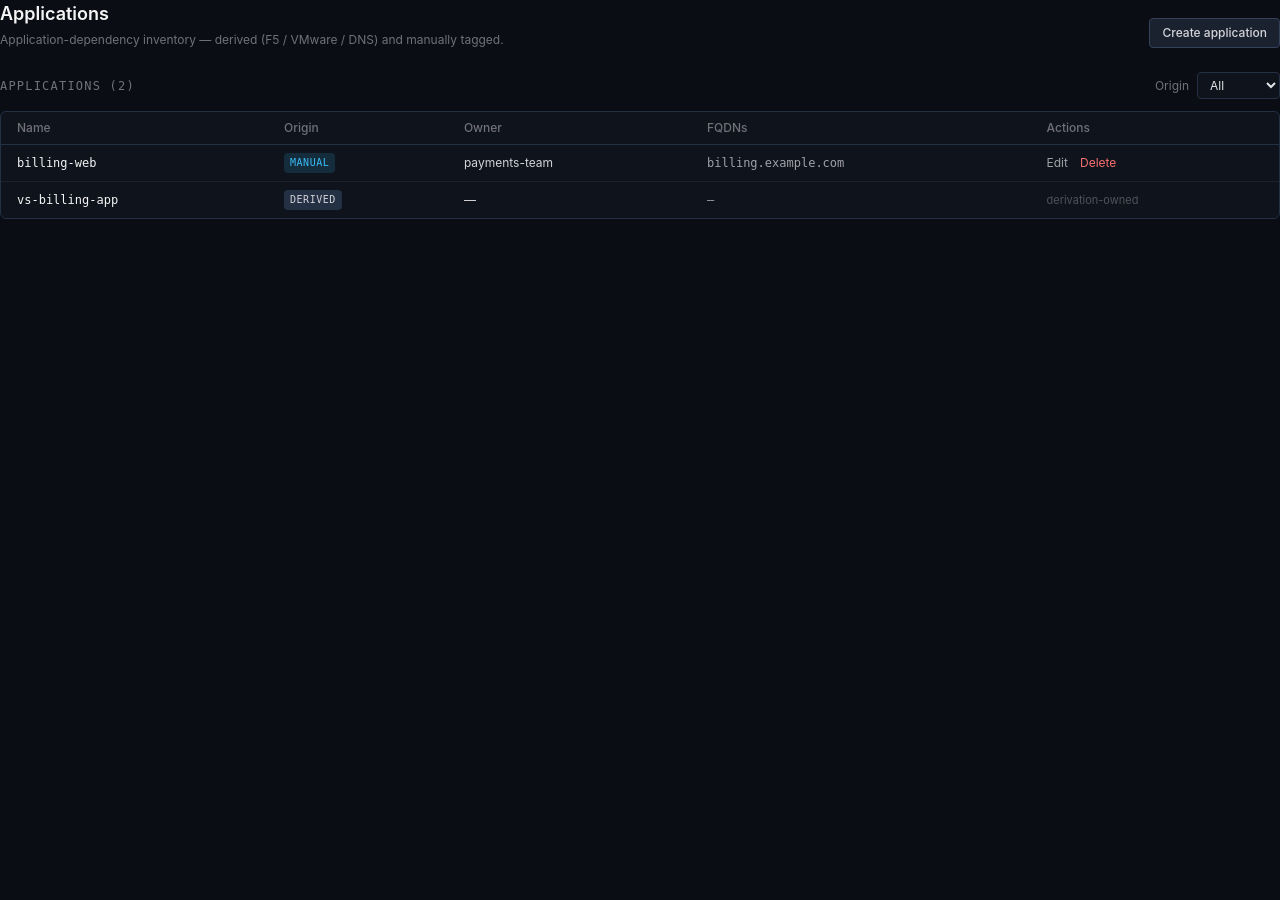
it: application_edit_uses_optimistic_concurrency_if_match › (d) a successful edit closes the modal (invalidating the list as before)
The width and height of the screenshot is (1280, 900).
Click the button "Edit" at (1057, 163), box [1047,155,1068,171]
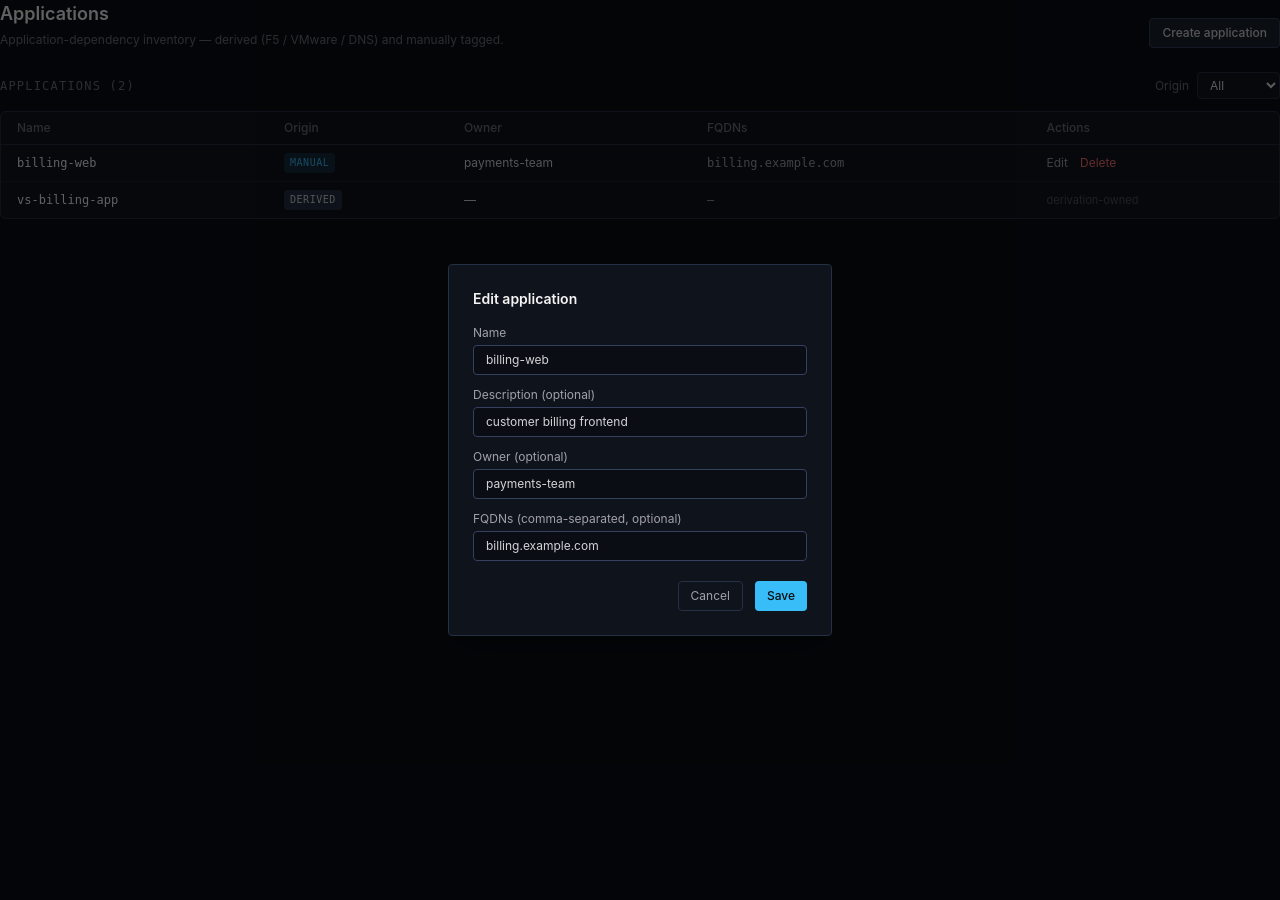
Replace the text in the field with test id "application-form-owner" with "new-owner" at (640, 484), box [473,469,807,499]
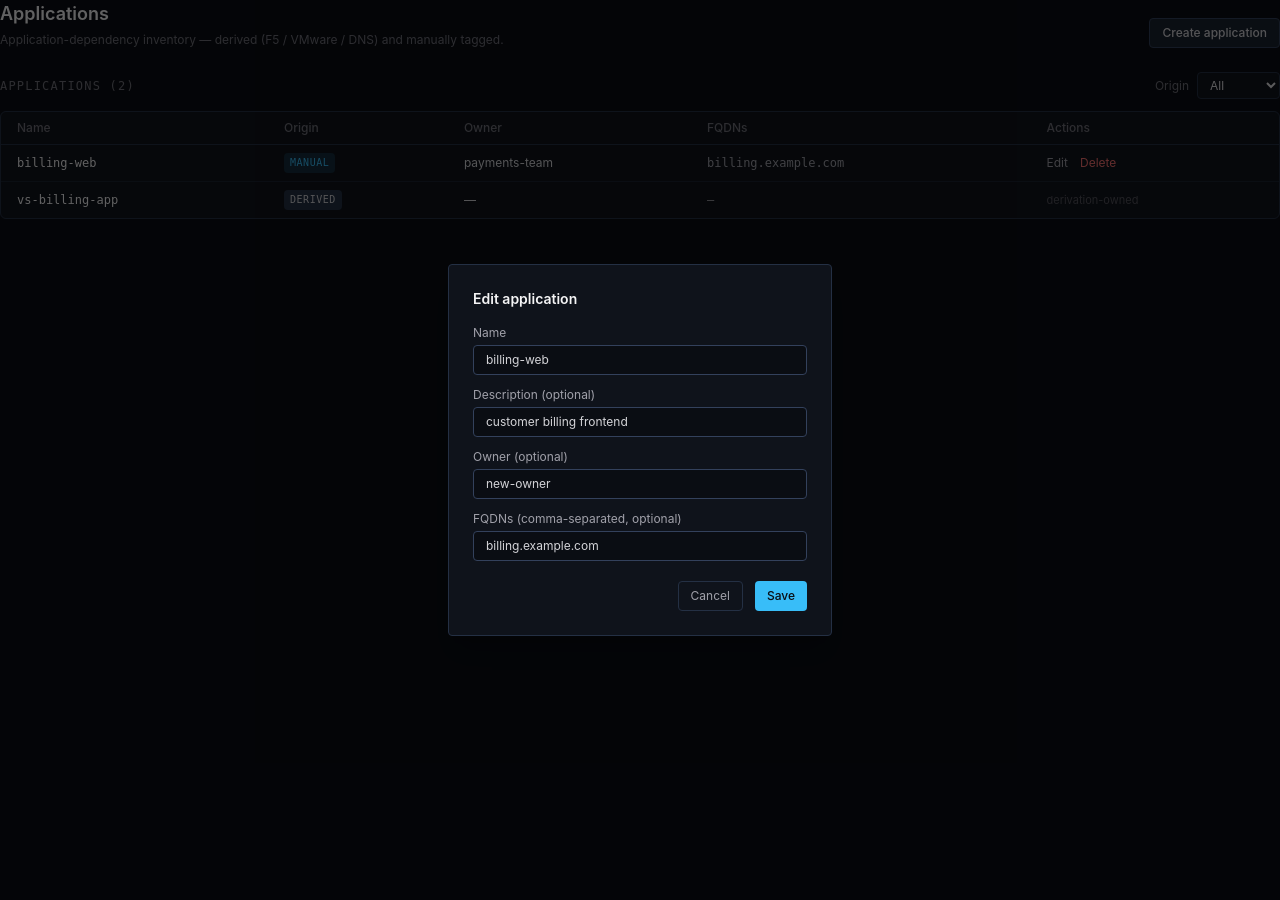
Click the button with test id "application-form-submit" at (781, 596), box [755,581,807,611]
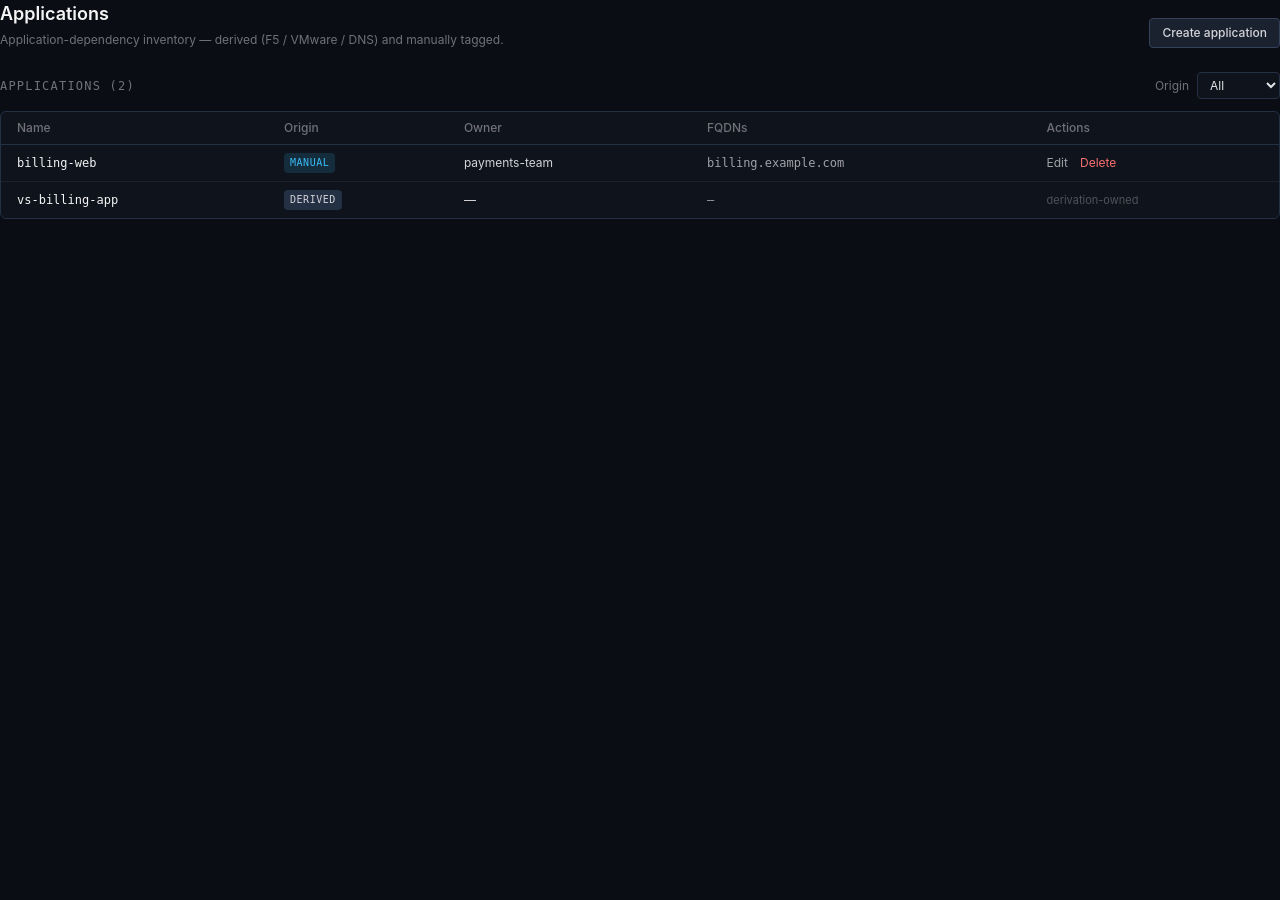
Now the heading labelled "Edit application" is gone
